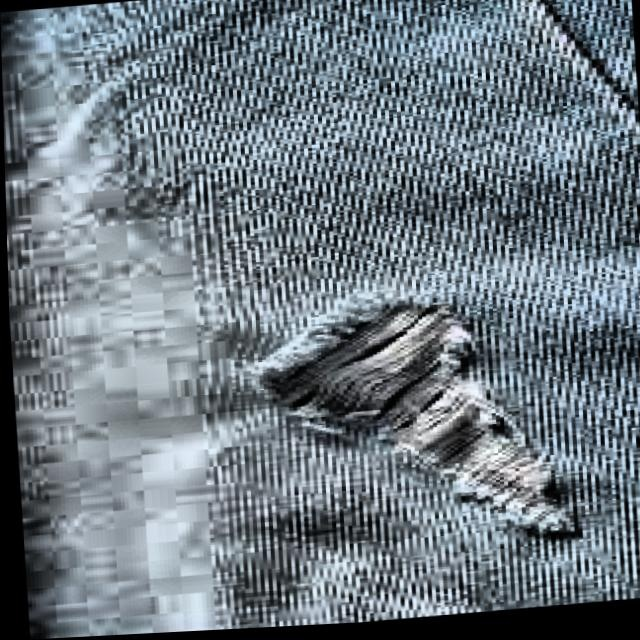Hole: (212, 255, 623, 583)
